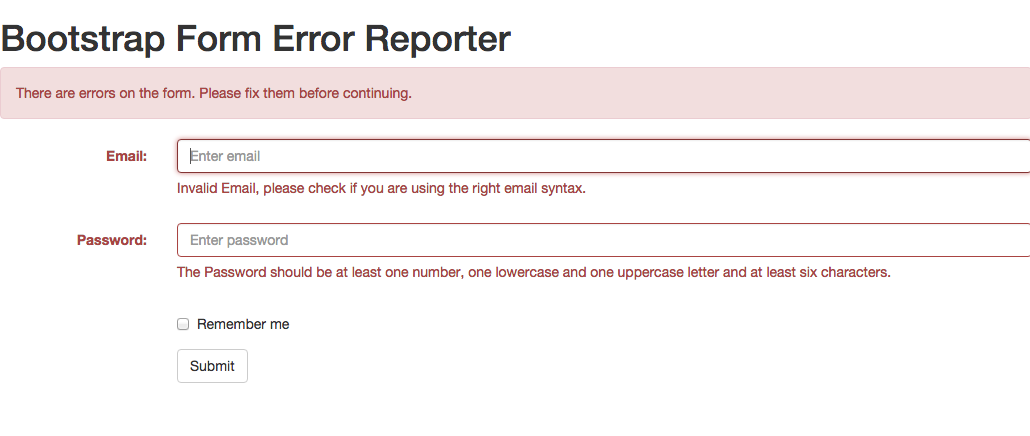error_field: (177, 136, 1030, 174), (177, 222, 1030, 257)
error_message: (177, 264, 893, 280), (11, 85, 416, 104), (178, 179, 587, 197), (77, 232, 152, 248), (106, 148, 149, 164)
